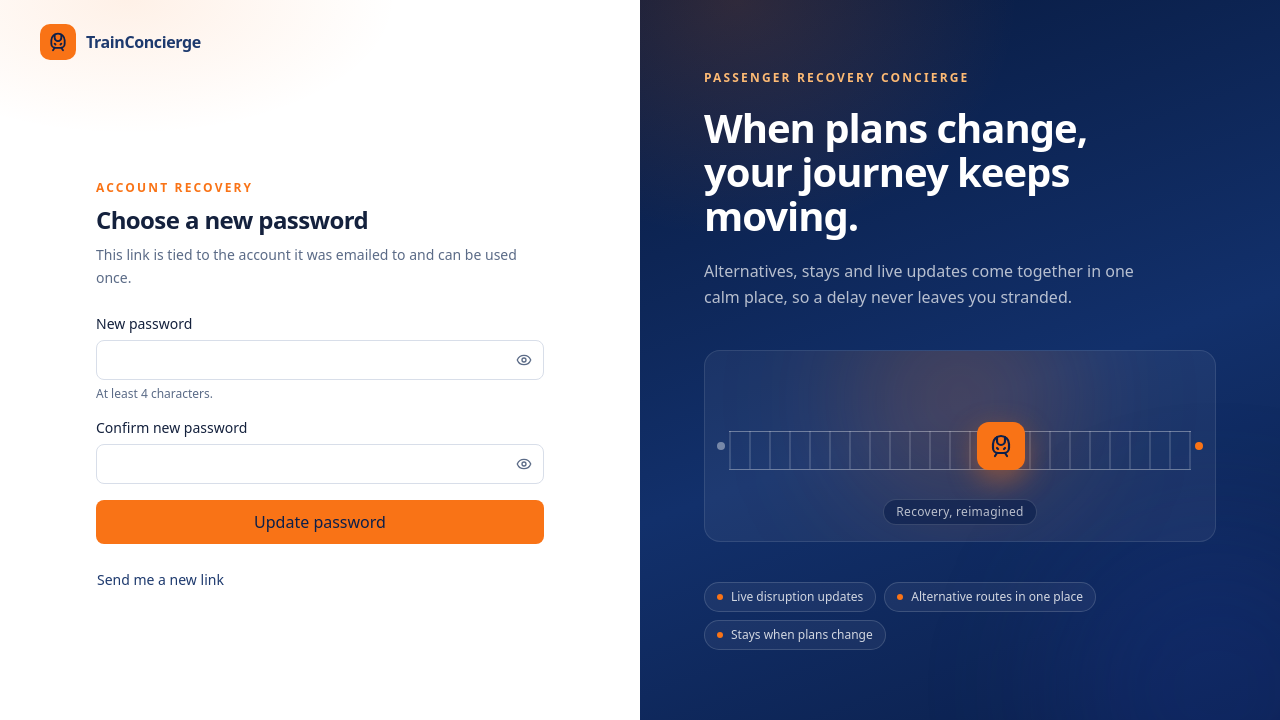
Scenario: reset password page › surfaces a rejected link from the server
The width and height of the screenshot is (1280, 720).
Type "newpass" into the password field labelled "New password" at coordinates (320, 360), box [96, 340, 544, 380]
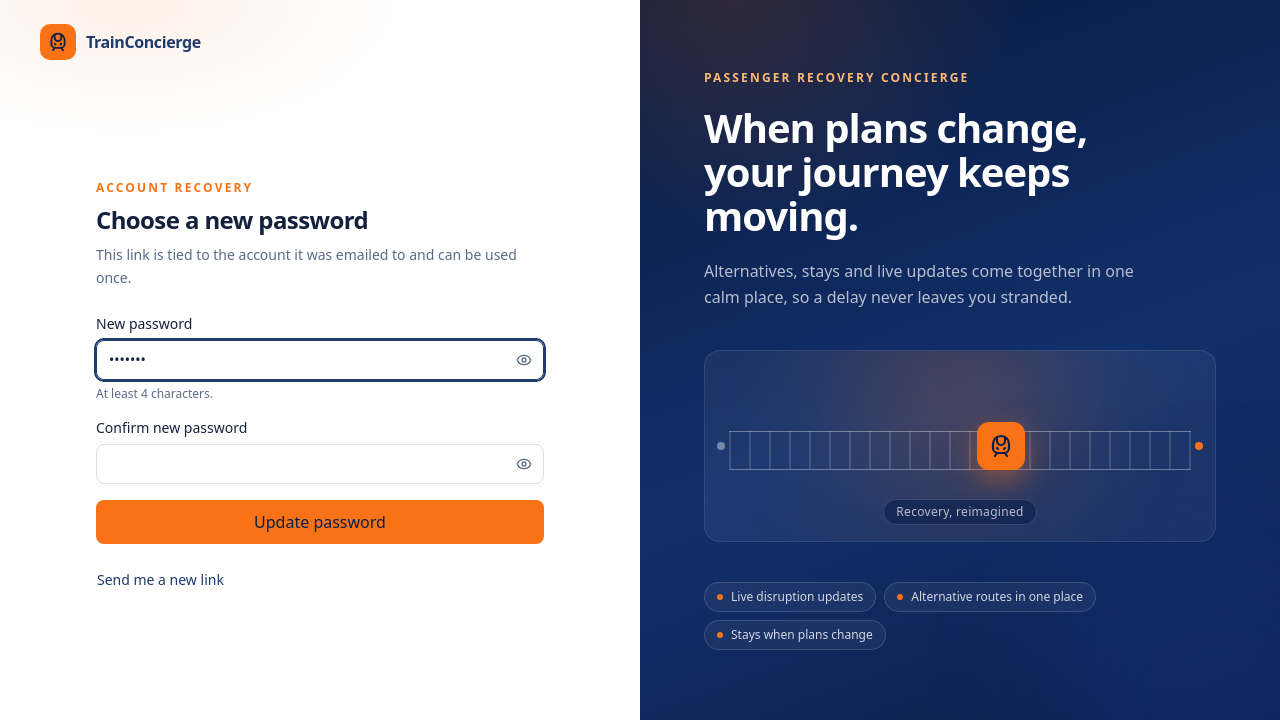
Type "newpass" into the password field labelled "Confirm new password" at coordinates (320, 464), box [96, 444, 544, 484]
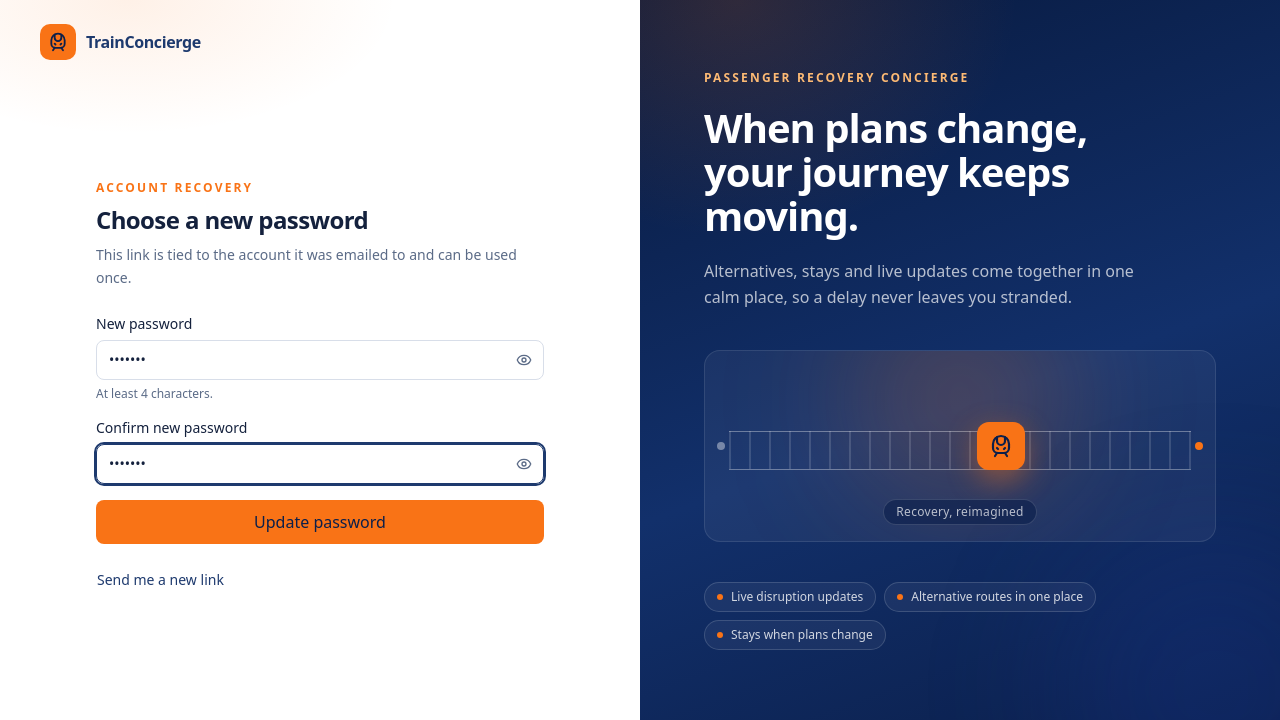
Click the button "Update password" at coordinates (320, 522), box [96, 500, 544, 544]
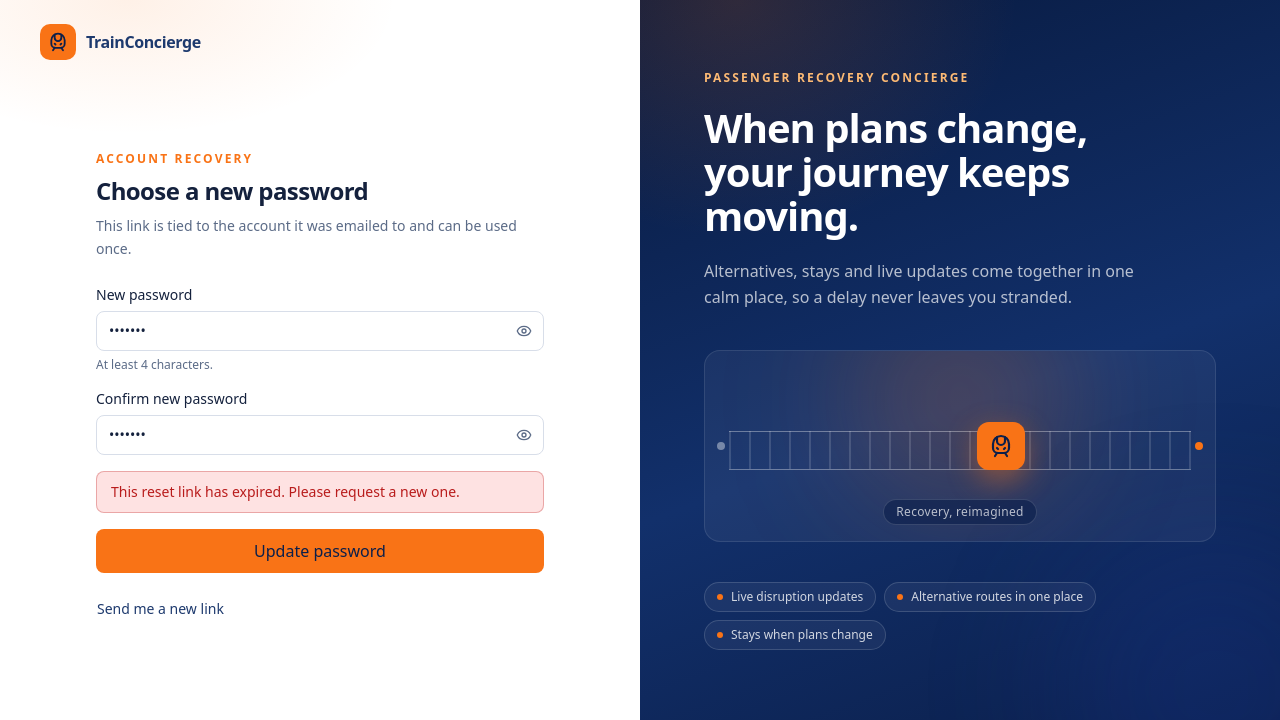
Now the text "This reset link has expired. Please request a new one." is shown, box [96, 471, 544, 513]
